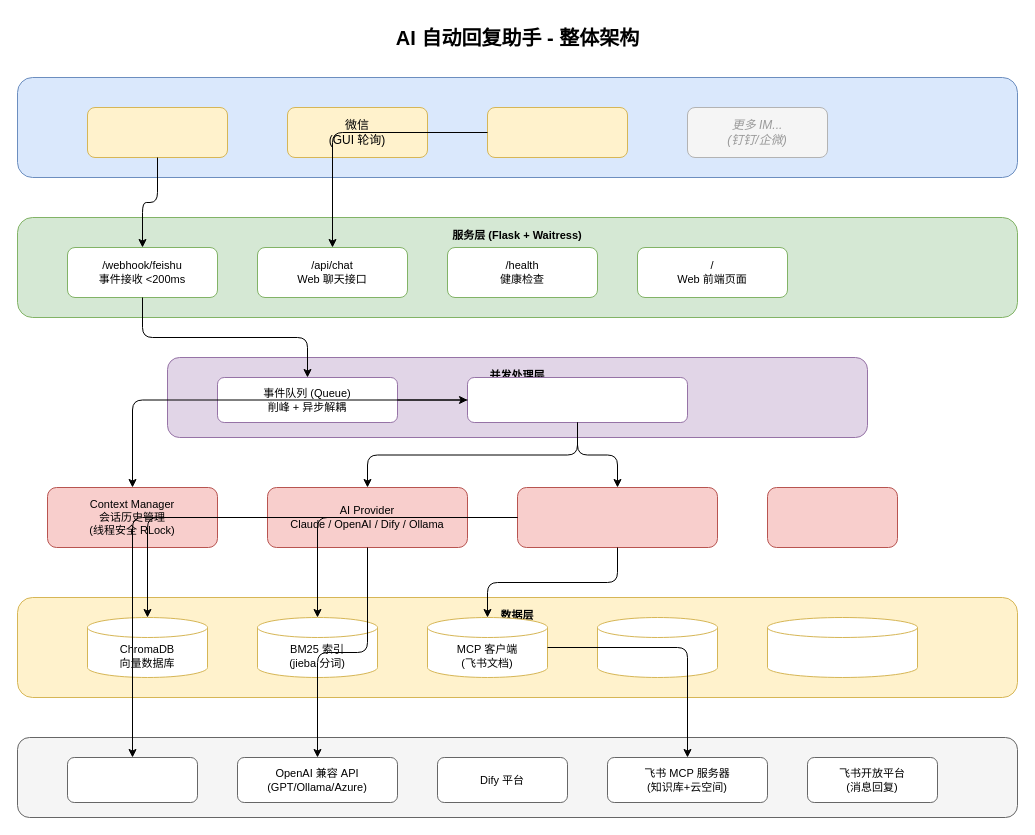
The diagram is 1035 pixels wide and 835 high, and some of its shapes have lost their labels. Here are the shapes that lost their labels. From the top down, the box of each, then its label:
(86, 106, 228, 158): 飞书机器人 (Webhook API)
(16, 76, 1018, 178): 接入层
(486, 106, 628, 158): Web 页面 (/api/chat)
(466, 376, 688, 422): 线程池 (ThreadPoolExecutor) N worker 并发处理
(516, 486, 718, 548): 混合检索引擎 向量 + BM25 + RRF 融合
(766, 486, 898, 548): Trace ID (contextvars)
(596, 616, 718, 678): 本地文档缓存 (目录结构)
(766, 616, 918, 678): text2vec-base-chinese (ONNX + GPU)
(66, 756, 198, 802): Anthropic API (Claude)
(16, 736, 1018, 818): 外部服务
